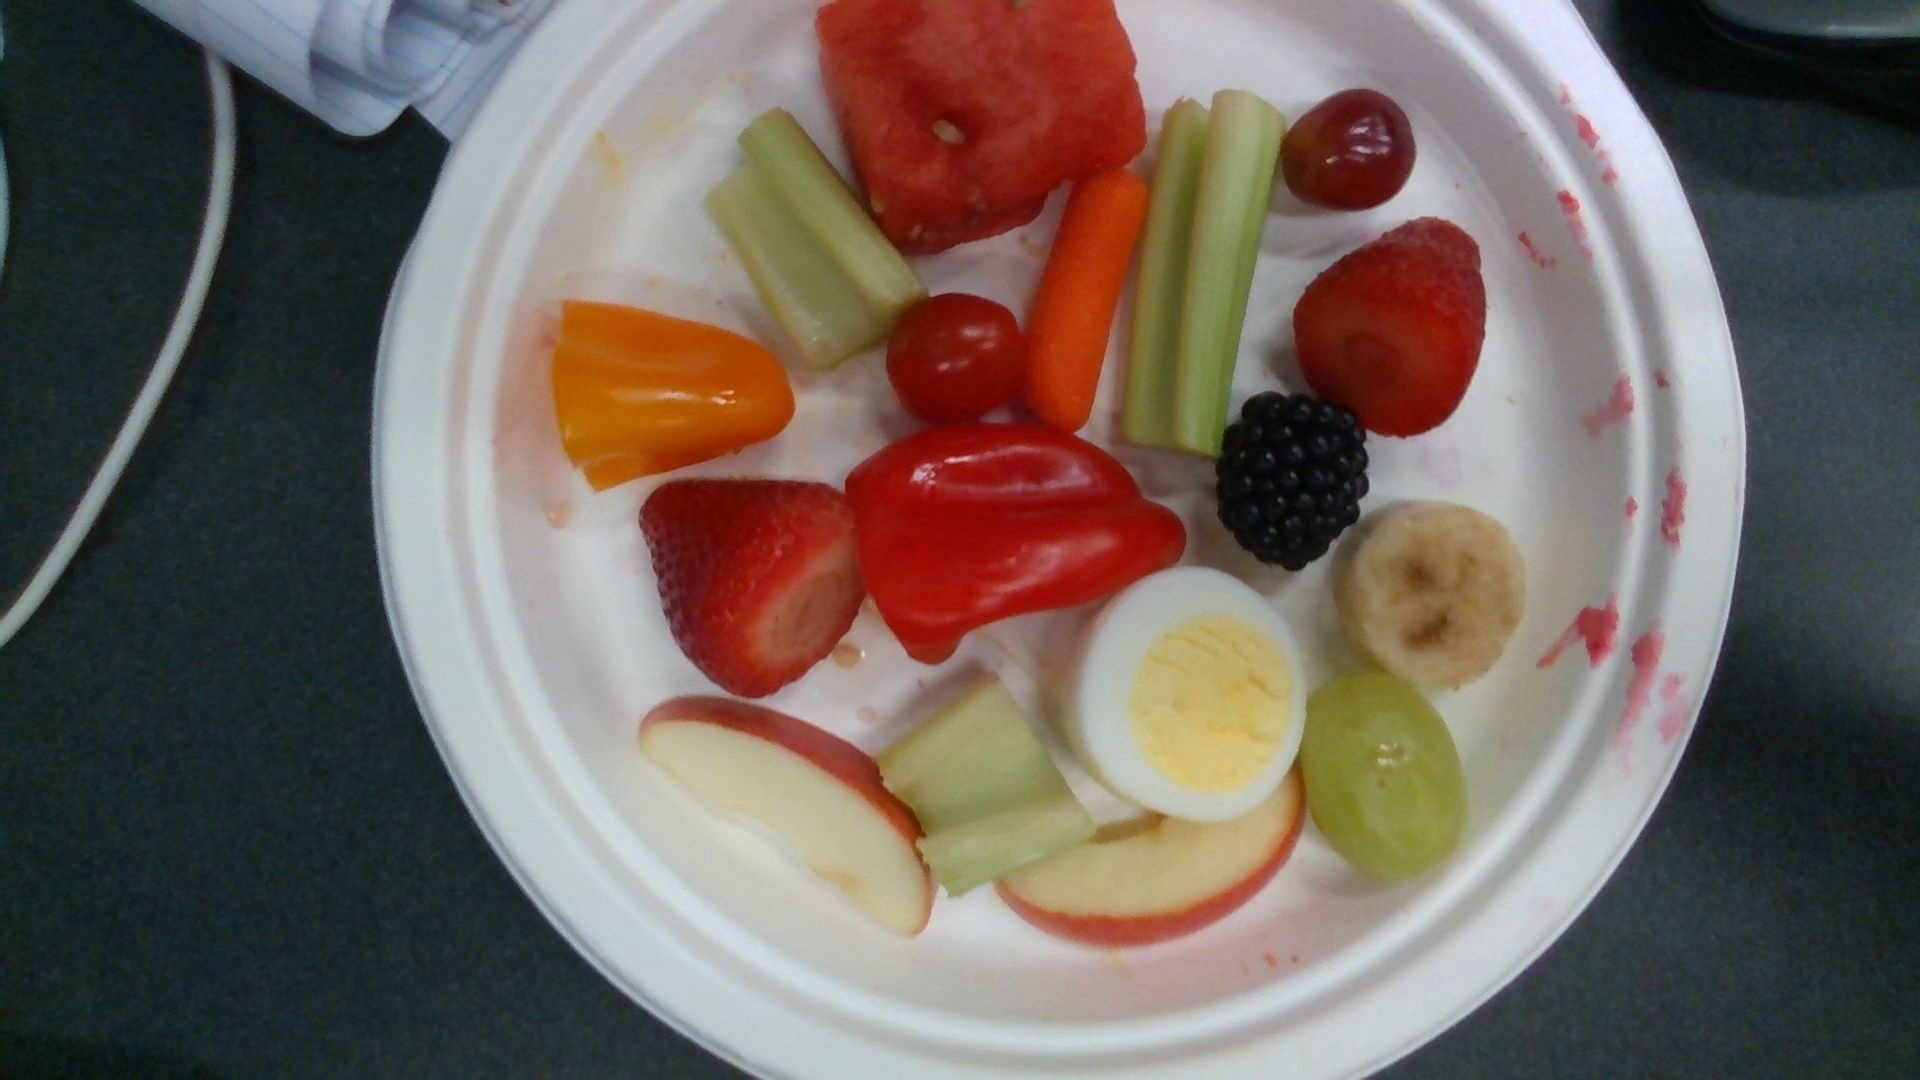apple: (642, 700, 928, 934), (1005, 781, 1300, 943)
banana: (1344, 505, 1524, 676)
bell_pepper: (849, 426, 1184, 659), (554, 301, 793, 487)
blackberry: (1222, 396, 1365, 560)
carrot: (1019, 173, 1145, 425)
celery: (1125, 94, 1280, 450), (709, 115, 916, 356), (880, 680, 1091, 891)
cherry_tomato: (889, 295, 1022, 419)
egg: (1062, 568, 1300, 816)
grape_green: (1298, 671, 1464, 880)
grape_purple: (1284, 94, 1414, 208)
melon: (818, 1, 1142, 248)
strawberry: (642, 481, 862, 695), (1298, 222, 1484, 429)
